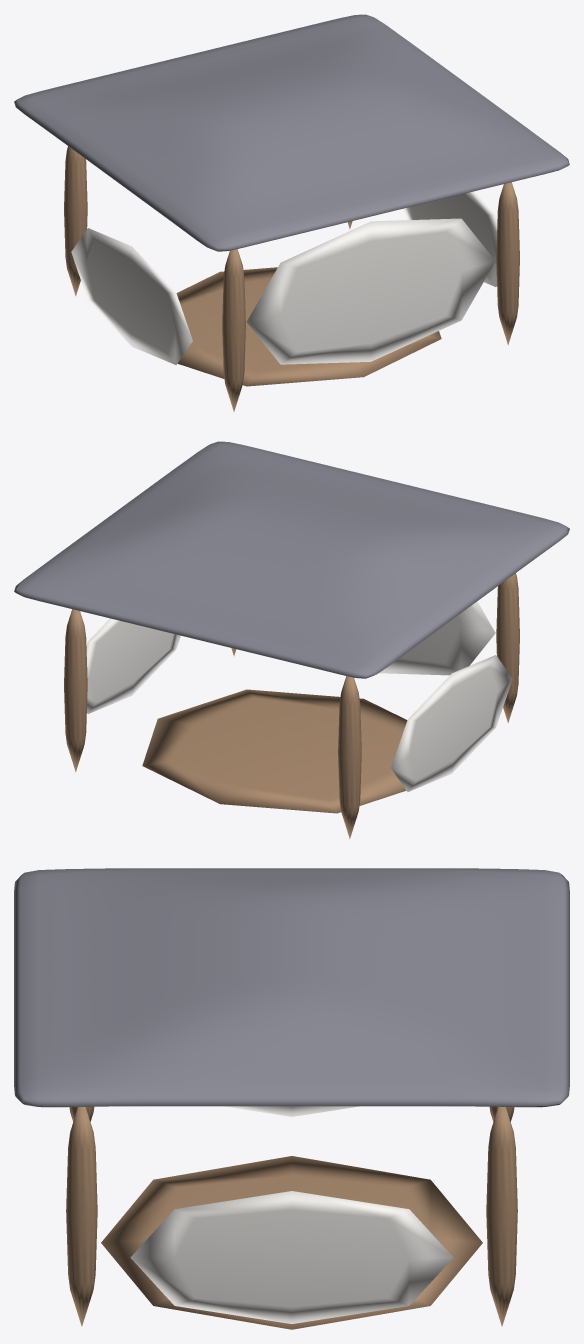
The model's file is hanok.glb.
3 renders of one model, top to bottom at view 1: azimuth 30°, elevation 25°; view 2: azimuth 150°, elevation 25°; view 3: azimuth 270°, elevation 25°, orthographic. The views are drawn at different scales.
Parts seen in each view (by area): view 1: Hanok_Roof, Hanok_BackWall, Hanok_LeftWall, Hanok_Platform, Hanok_Pillar_3, Hanok_Pillar_4, Hanok_RightWall, Hanok_Pillar_1; view 2: Hanok_Roof, Hanok_Platform, Hanok_LeftWall, Hanok_RightWall, Hanok_BackWall, Hanok_Pillar_1, Hanok_Pillar_2, Hanok_Pillar_3; view 3: Hanok_Roof, Hanok_RightWall, Hanok_Platform, Hanok_Pillar_2, Hanok_Pillar_4, Hanok_LeftWall.
Part boxes in pixels (bbox=[...]): Hanok_Roof: bbox=[14, 14, 569, 251]; Hanok_BackWall: bbox=[246, 218, 495, 364]; Hanok_LeftWall: bbox=[71, 228, 192, 364]; Hanok_Platform: bbox=[176, 267, 441, 386]; Hanok_Pillar_3: bbox=[222, 249, 245, 411]; Hanok_Pillar_4: bbox=[496, 182, 519, 345]; Hanok_RightWall: bbox=[403, 191, 497, 286]; Hanok_Pillar_1: bbox=[64, 146, 87, 296]; Hanok_Roof: bbox=[14, 441, 569, 678]; Hanok_Platform: bbox=[142, 689, 407, 813]; Hanok_LeftWall: bbox=[391, 655, 512, 791]; Hanok_RightWall: bbox=[86, 618, 180, 713]; Hanok_BackWall: bbox=[379, 601, 495, 675]; Hanok_Pillar_1: bbox=[338, 676, 361, 838]; Hanok_Pillar_2: bbox=[64, 609, 87, 772]; Hanok_Pillar_3: bbox=[496, 573, 519, 723]; Hanok_Roof: bbox=[14, 868, 569, 1107]; Hanok_RightWall: bbox=[130, 1191, 453, 1323]; Hanok_Platform: bbox=[101, 1156, 482, 1329]; Hanok_Pillar_2: bbox=[486, 1107, 517, 1326]; Hanok_Pillar_4: bbox=[66, 1107, 97, 1326]; Hanok_LeftWall: bbox=[224, 1106, 359, 1116].
Bounding box in the file's own units: 7.94 × 4.76 × 7.94.
